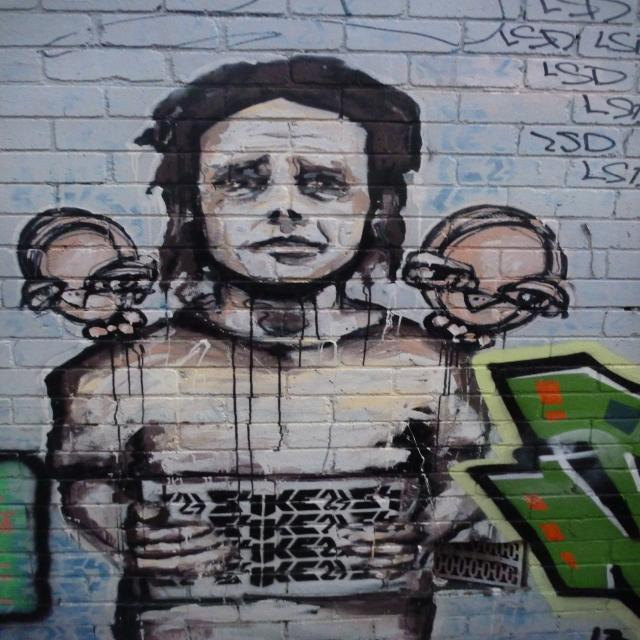-: (18, 54, 573, 640), (454, 342, 640, 638), (496, 1, 640, 180), (0, 449, 49, 628)
